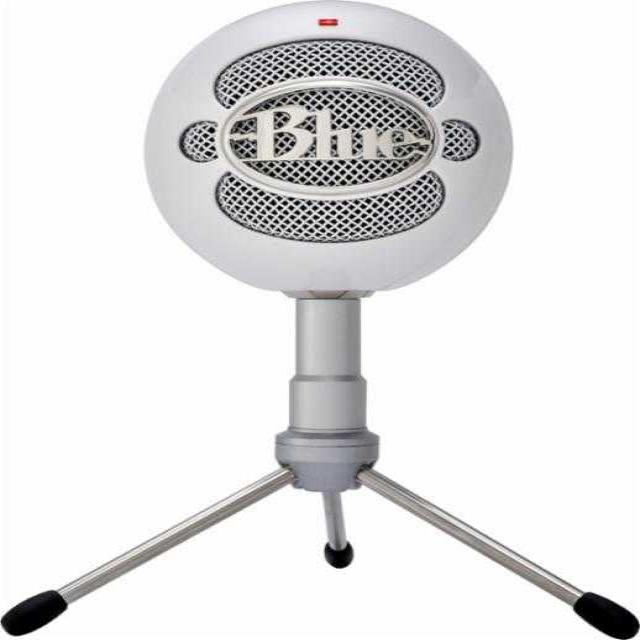microphone: (152, 4, 498, 284)
